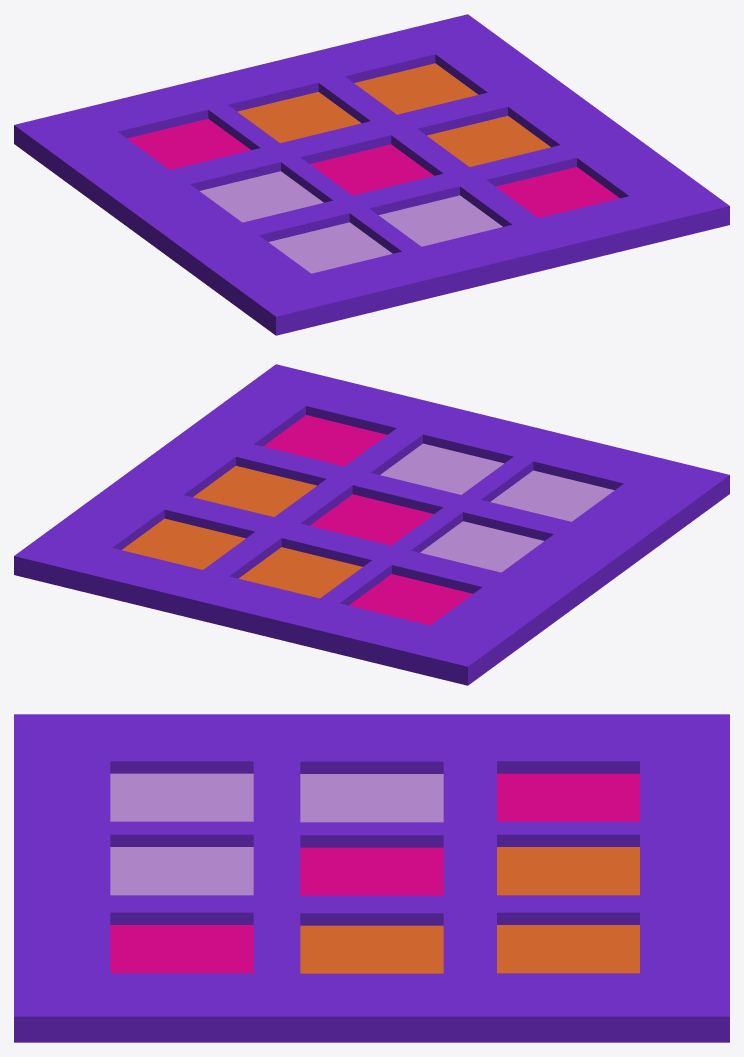
File: blocksPuxxle11.fbx
The picture shows the model from 3 angles, top to bottom: view 1: azimuth 30°, elevation 25°; view 2: azimuth 150°, elevation 25°; view 3: azimuth 270°, elevation 25°; orthographic projection. The views are drawn at different scales.
Visible parts, largest first — view 1: Cube; view 2: Cube; view 3: Cube.
Part boxes in pixels (left/top/right/bottom): Cube: left=14, top=14, right=729, bottom=335; Cube: left=14, top=364, right=729, bottom=685; Cube: left=14, top=714, right=729, bottom=1042.
Size of the model in its own units: 500 by 20 by 500.
